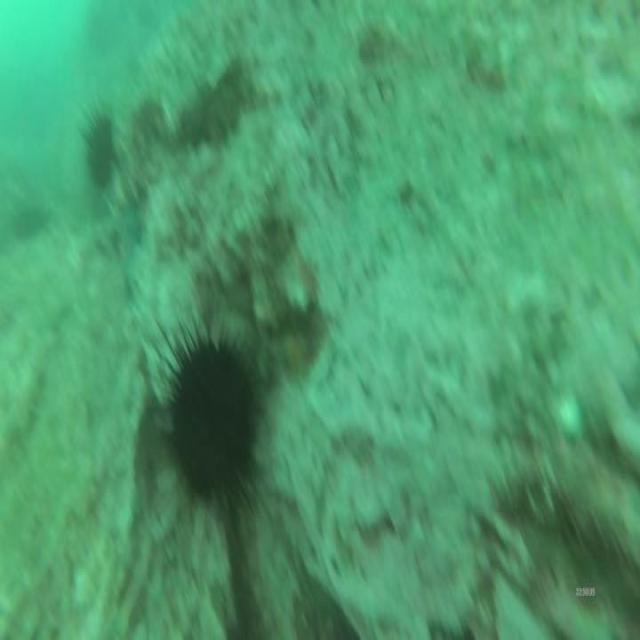echinus: (143, 310, 266, 528), (76, 101, 115, 199)
